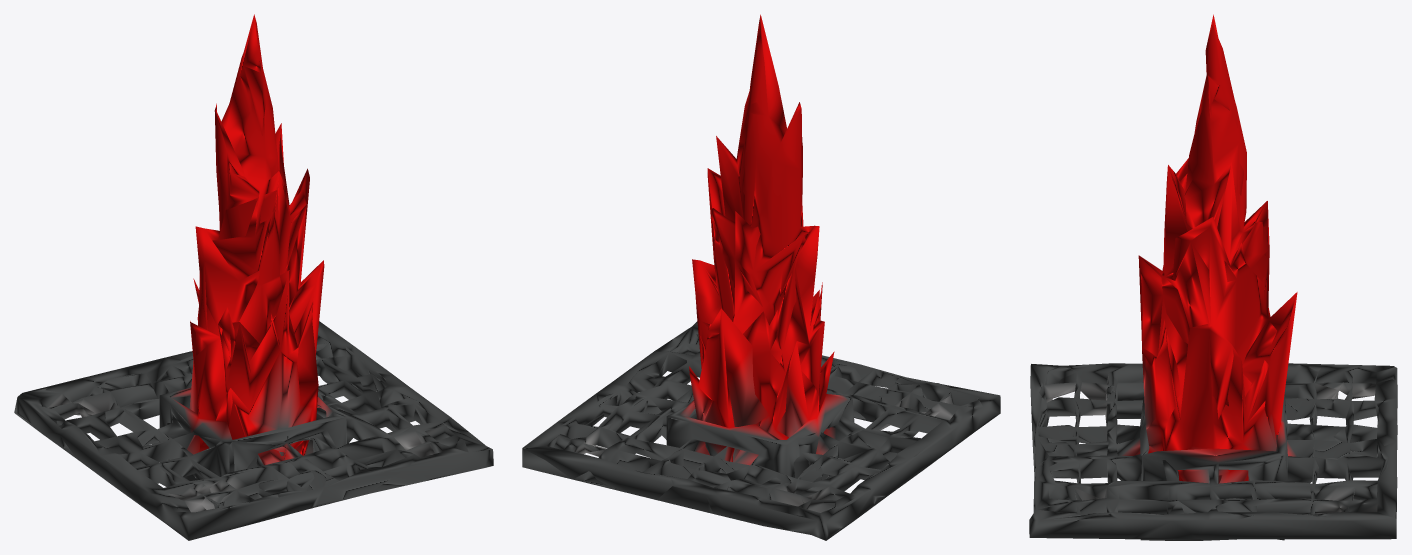
The model's file is gen3d-flame-trap-lod0.glb.
The picture shows the model from 3 angles, left to right: view 1: azimuth 30°, elevation 25°; view 2: azimuth 150°, elevation 25°; view 3: azimuth 270°, elevation 25°; orthographic projection. The views are drawn at different scales.
Visible parts, largest first — view 1: part_0; view 2: part_0; view 3: part_0.
Boxes of the visible parts, bbox=[...] form: part_0: bbox=[14, 14, 493, 540]; part_0: bbox=[522, 14, 1000, 540]; part_0: bbox=[1029, 14, 1397, 540].
Bounding box in the file's own units: 0.6761 × 1 × 0.6717.
